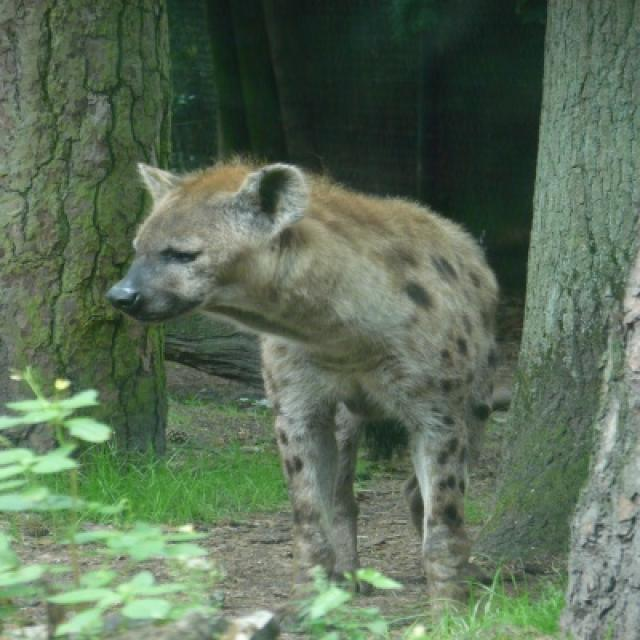hyena: (106, 163, 501, 616)
